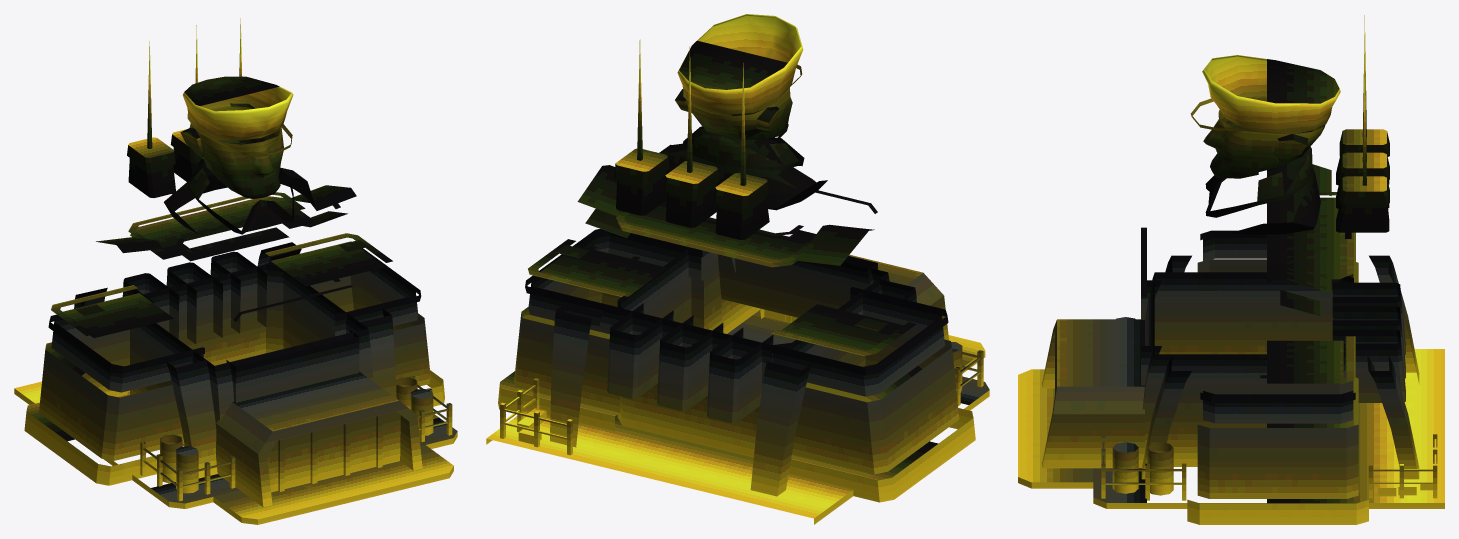
The model's file is xueyuansaoguang.FBX.
3 renders of one model, left to right at view 1: azimuth 30°, elevation 25°; view 2: azimuth 150°, elevation 25°; view 3: azimuth 270°, elevation 25°, orthographic. The views are drawn at different scales.
Visible parts, largest first — view 1: xueyuansaoguang; view 2: xueyuansaoguang; view 3: xueyuansaoguang.
Boxes of the visible parts, x1,y1,x2,y2 form: xueyuansaoguang: (14,18,457,524); xueyuansaoguang: (486,14,989,524); xueyuansaoguang: (1018,15,1444,524).
Bounding box in the file's own units: 1756 × 1702 × 1733.
